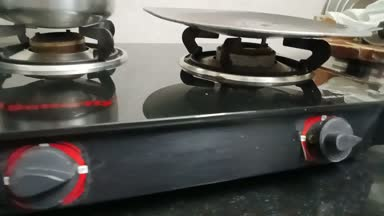flame_gas_off: (191, 34, 367, 168), (2, 25, 106, 211)
